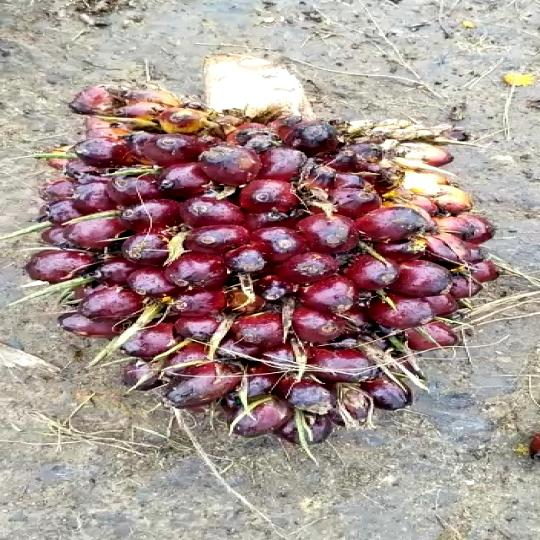kurang masak: (10, 53, 526, 455)
